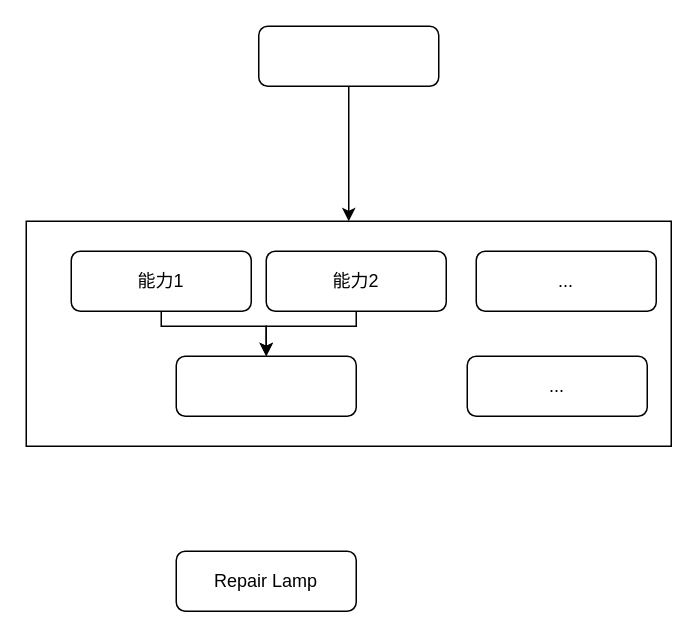
This 698x638 diagram has some shape labels left out. The box of each missing label's shape, as (x1, y1, x2, y2) in pixels:
策略: (257, 25, 439, 86)
组件: (175, 355, 356, 416)
